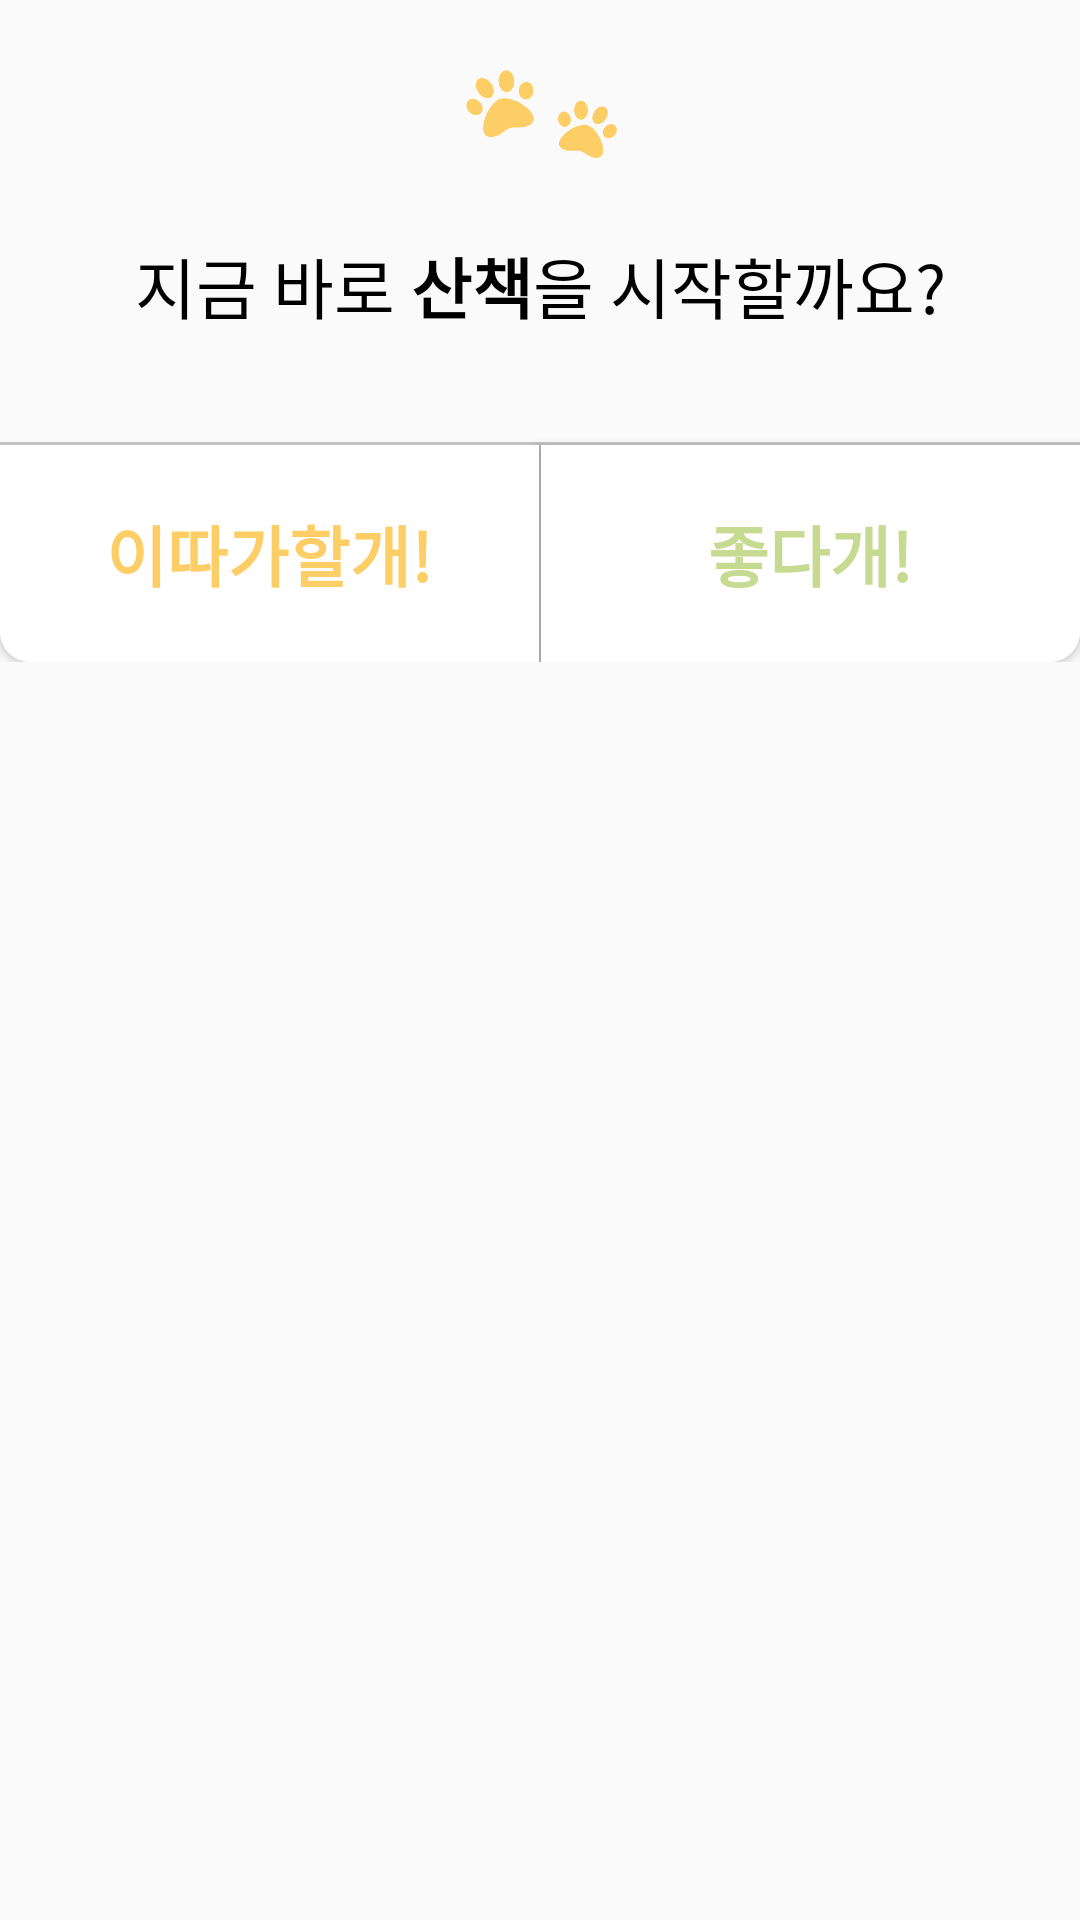

Locate icon controls on the screen. Image size 1080x1920, boxes as box=[x1, y1, x2, y2].
double foot: box=[466, 70, 617, 158]
